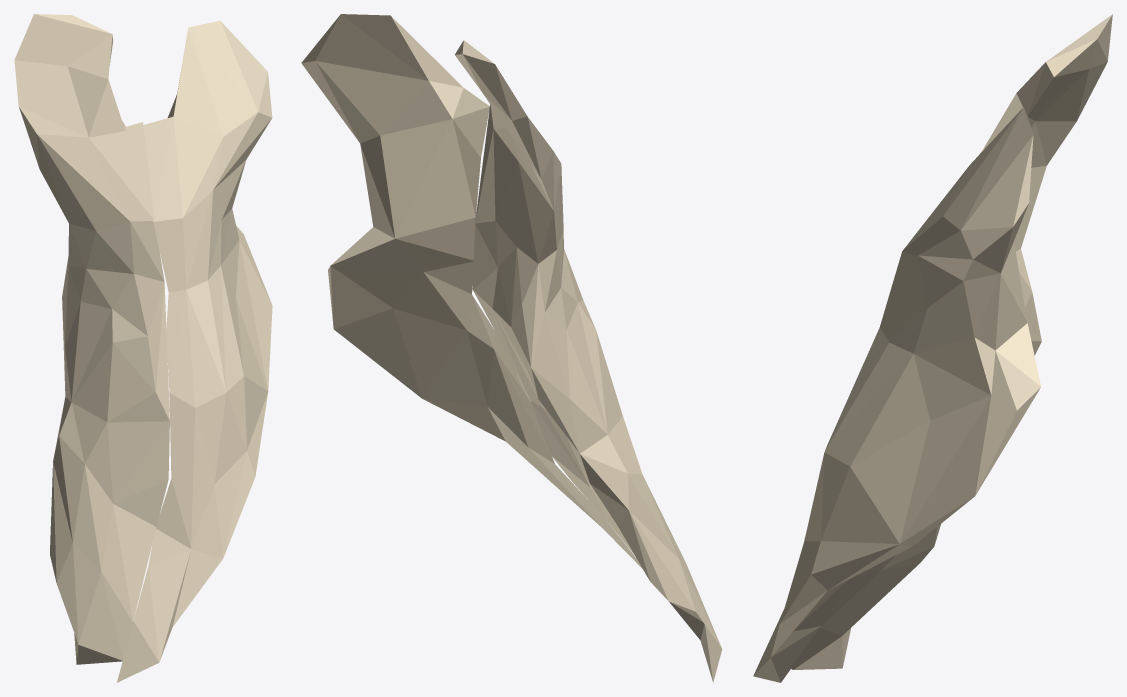
Rendered from VH_M_Thymus_0.1.glb.
3 views of the same model, side by side, from view 1: azimuth 30°, elevation 25°; view 2: azimuth 150°, elevation 25°; view 3: azimuth 270°, elevation 25° (orthographic). The views are drawn at different scales.
Parts seen in each view (by area): view 1: VH_M_thymus_lobe_L, VH_M_thymus_lobe_R; view 2: VH_M_thymus_lobe_R, VH_M_thymus_lobe_L; view 3: VH_M_thymus_lobe_R, VH_M_thymus_lobe_L.
Part boxes in pixels (left/top/right/bottom): VH_M_thymus_lobe_L: left=14, top=14, right=169, bottom=664; VH_M_thymus_lobe_R: left=117, top=20, right=272, bottom=682; VH_M_thymus_lobe_R: left=301, top=14, right=642, bottom=568; VH_M_thymus_lobe_L: left=455, top=40, right=722, bottom=682; VH_M_thymus_lobe_R: left=753, top=107, right=1040, bottom=682; VH_M_thymus_lobe_L: left=790, top=14, right=1112, bottom=669.
Bounding box in the file's own units: 0.0378 × 0.0769 × 0.0358.
